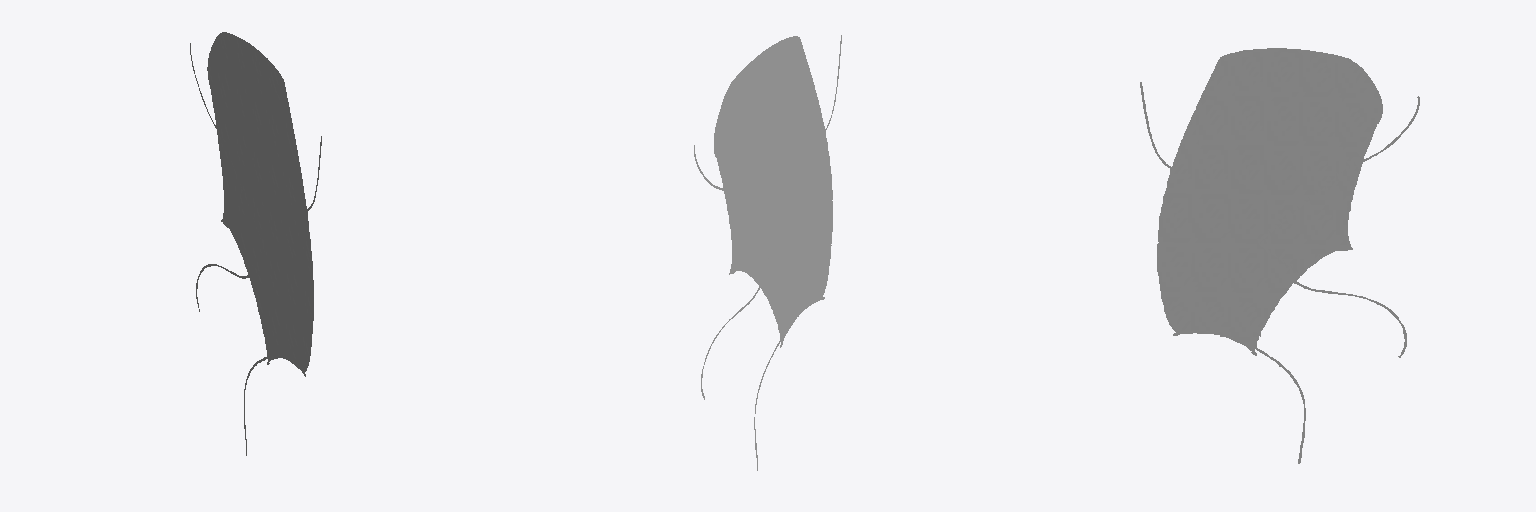
Rendered from trashy2OBJ.obj.
3 views of the same model, side by side, from view 1: azimuth 30°, elevation 25°; view 2: azimuth 150°, elevation 25°; view 3: azimuth 270°, elevation 25° (orthographic).
Parts seen in each view (by area): view 1: Trashy2; view 2: Trashy2; view 3: Trashy2.
Part boxes in pixels (x1,y1,x2,y2): Trashy2: (190,32,321,455); Trashy2: (694,35,841,470); Trashy2: (1140,48,1419,463).
Bounding box in the file's own units: 0.0165 × 0.8117 × 0.4956.